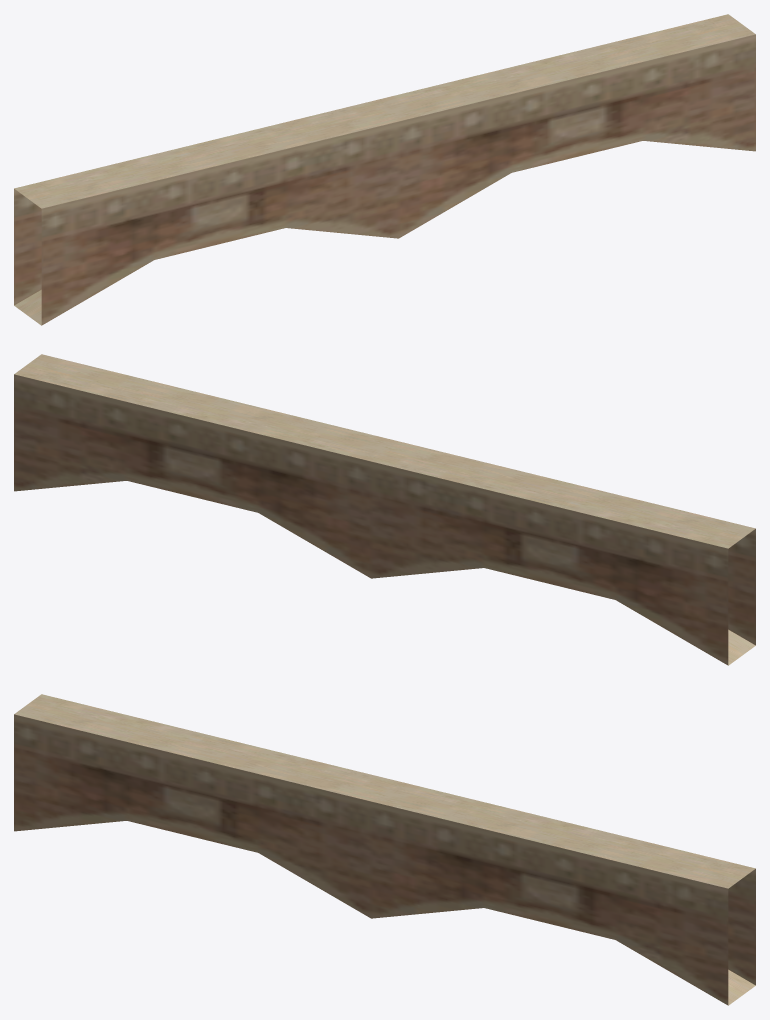
File: thm_nboo_imprv_archway_wide_s01_l3.fbx
The picture shows the model from 3 angles, top to bottom: view 1: azimuth 30°, elevation 25°; view 2: azimuth 150°, elevation 25°; view 3: azimuth 330°, elevation 25°; orthographic projection.
Parts seen in each view (by area): view 1: mesh_node; view 2: mesh_node; view 3: mesh_node.
Boxes of the visible parts, x1,y1,x2,y2 form: mesh_node: (14, 14, 755, 325); mesh_node: (14, 354, 755, 665); mesh_node: (14, 694, 755, 1005).
Bounding box in the file's own units: 16 × 2.51 × 1.07.
